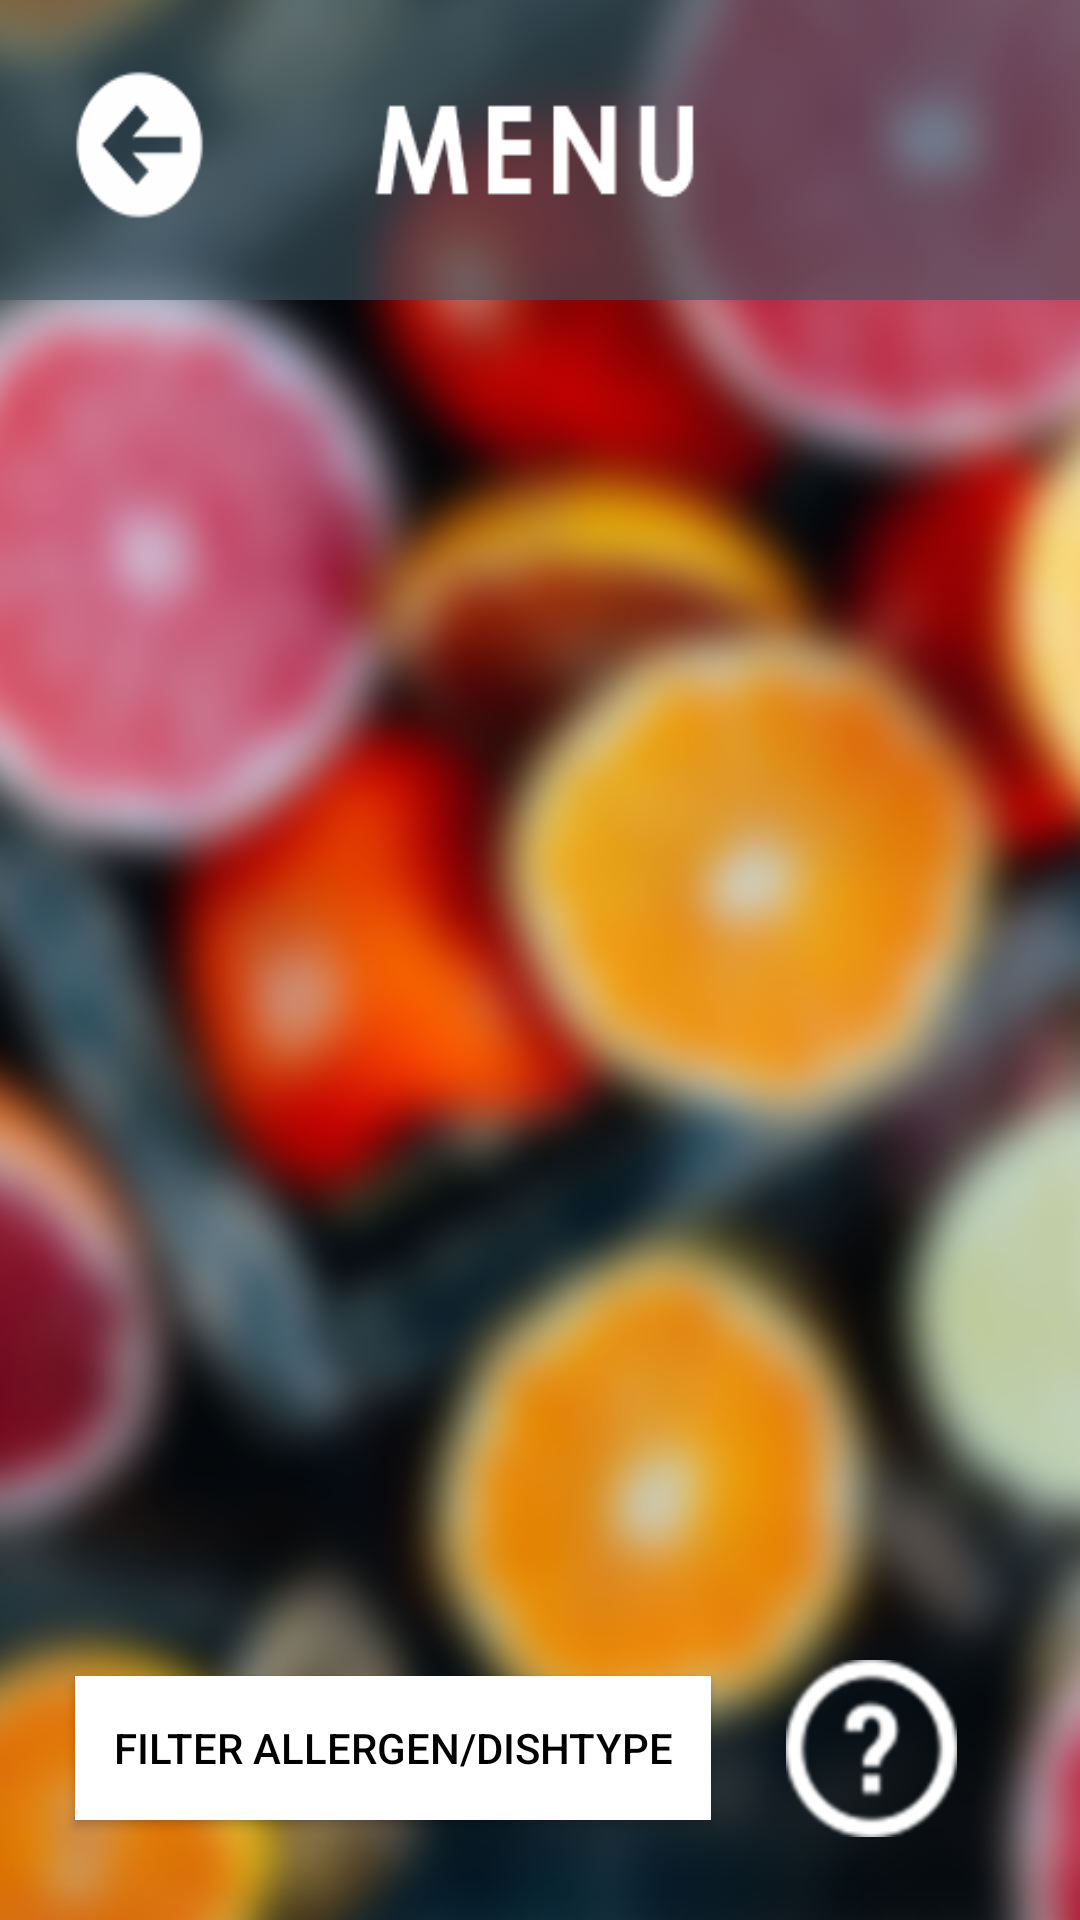

Icons on this 1080x1920 Android screen, each with its box as [x1=x1, y1=y1, x2=x2, y2=y2]:
abouticon: [x1=786, y1=1660, x2=957, y2=1837]
